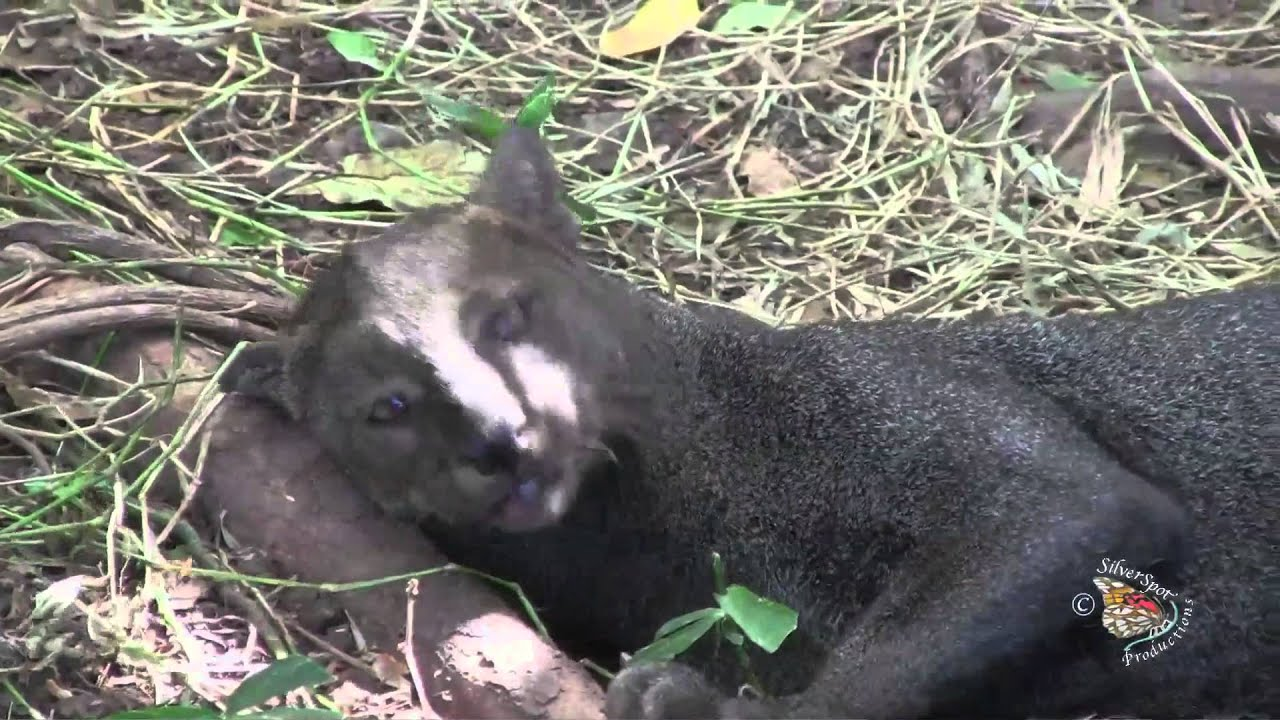Jaguarundi: (227, 101, 1235, 651)
